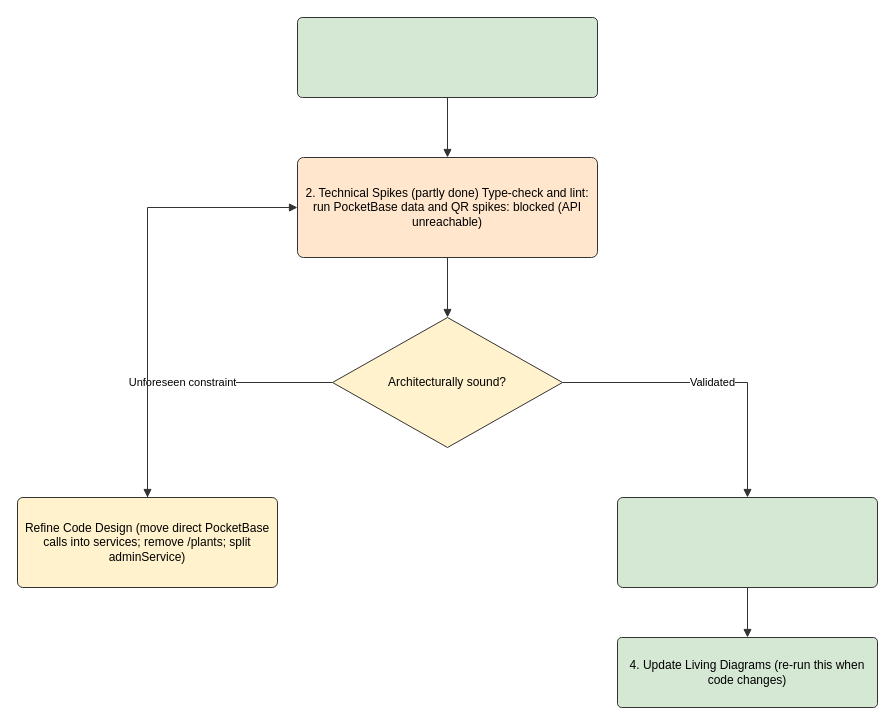
This 895x725 diagram has some shape labels left out. Here are the shapes that lost their labels. From the top down, the centre of each, then its label:
At [447,57]: "1. Initial Design (done) Use Case Diagram, ER Diagram, Code Component Diagram".
At [747,542]: "3. Production Coding (app is already built and deployed)".
